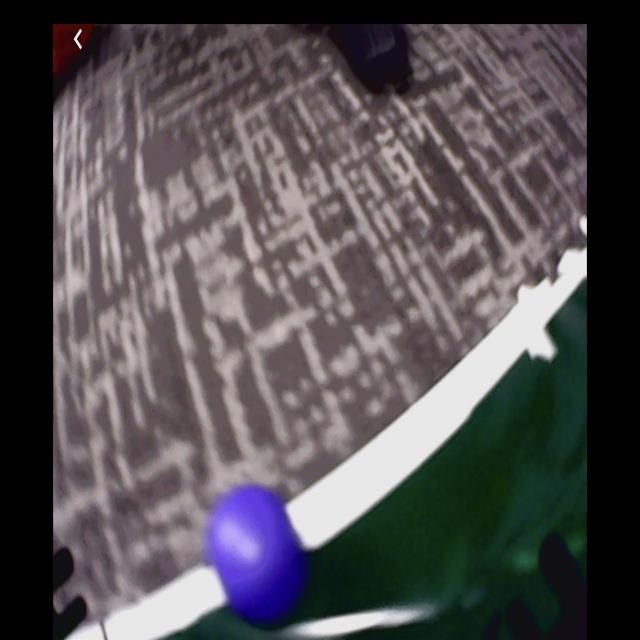ball: (212, 478, 297, 611)
